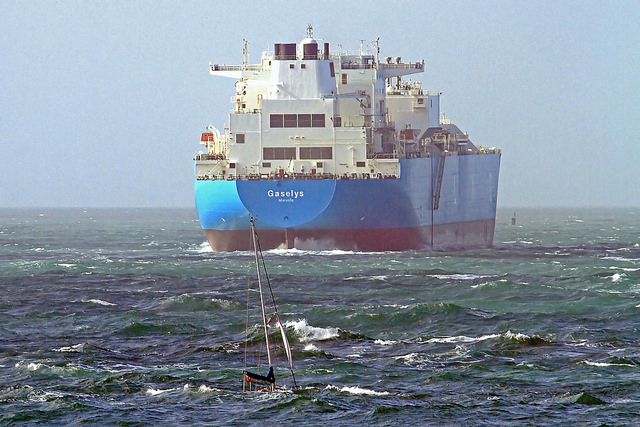LNG_ship: (191, 26, 507, 253)
